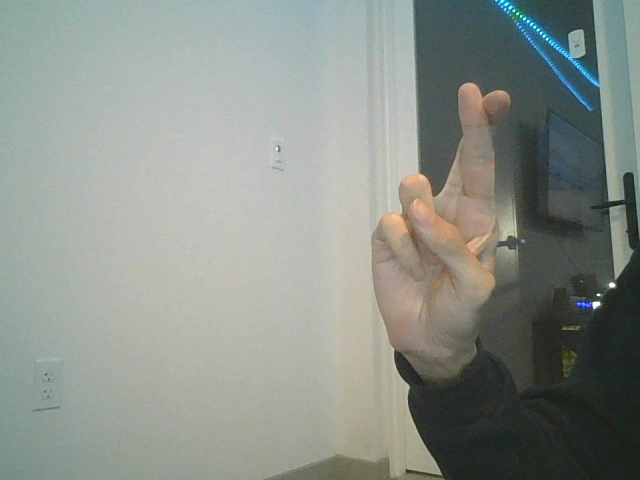r: (366, 78, 510, 380)
